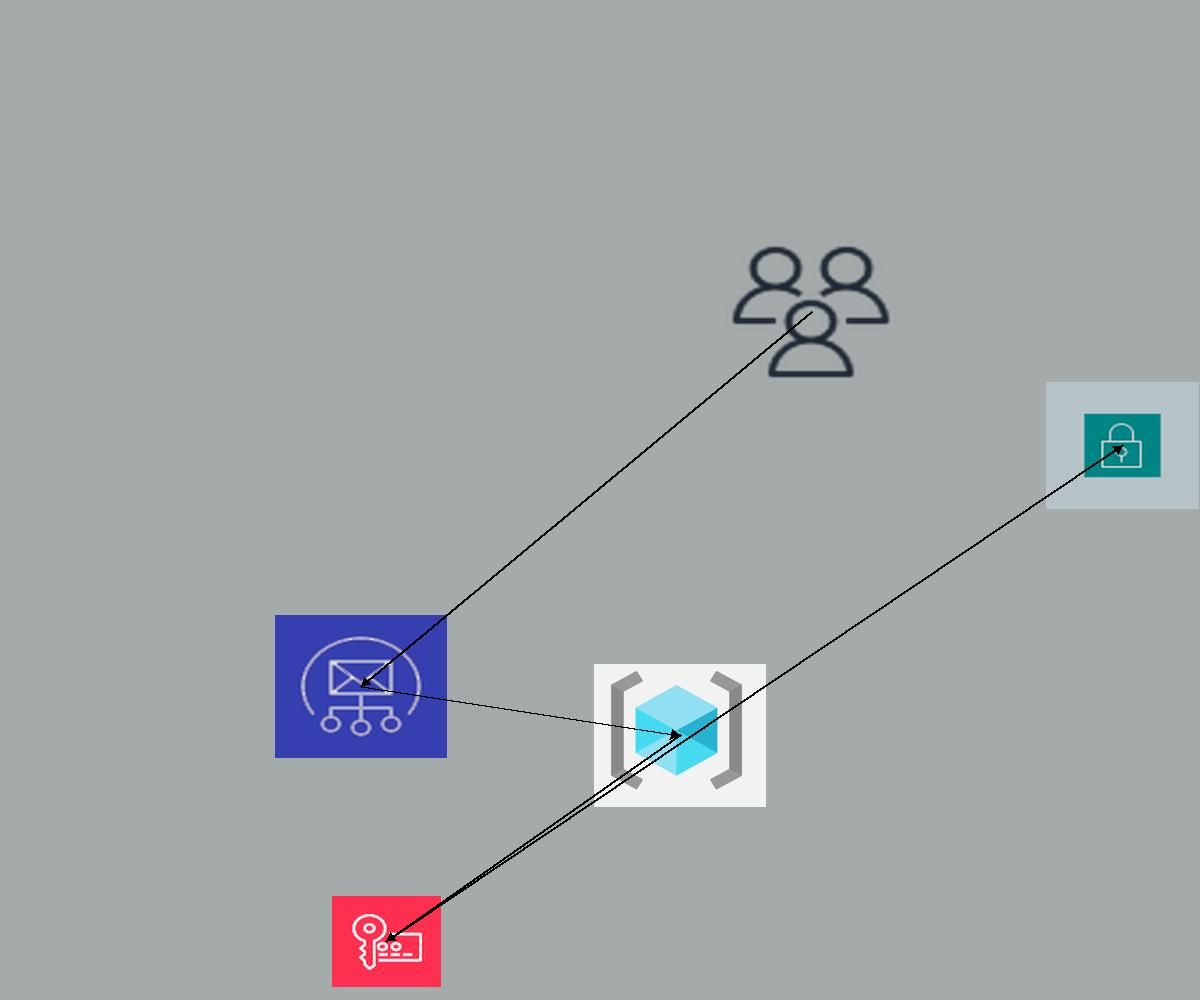AWS-Key-Management-Service: (332, 896, 441, 987)
AWS-Private-subnet: (1046, 382, 1199, 509)
AWS-Res_Users: (726, 241, 896, 383)
AWS-Simple-Email-Service: (275, 615, 447, 758)
Azure_resource_group: (594, 664, 766, 807)
